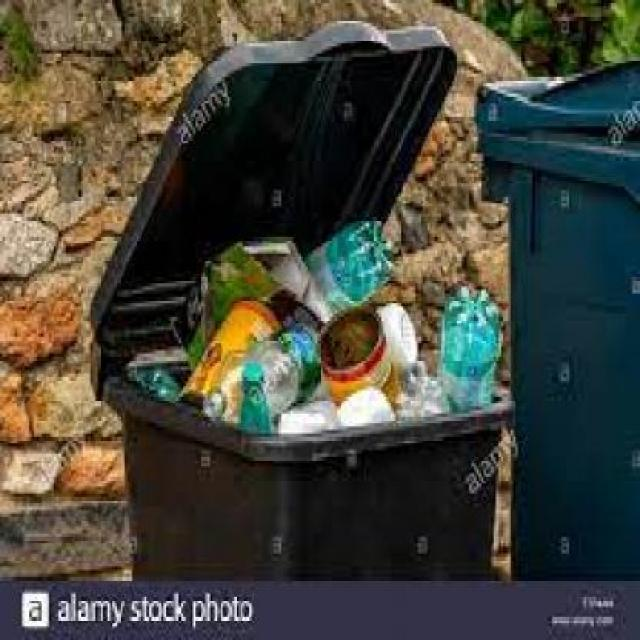garbage: (162, 217, 496, 417)
